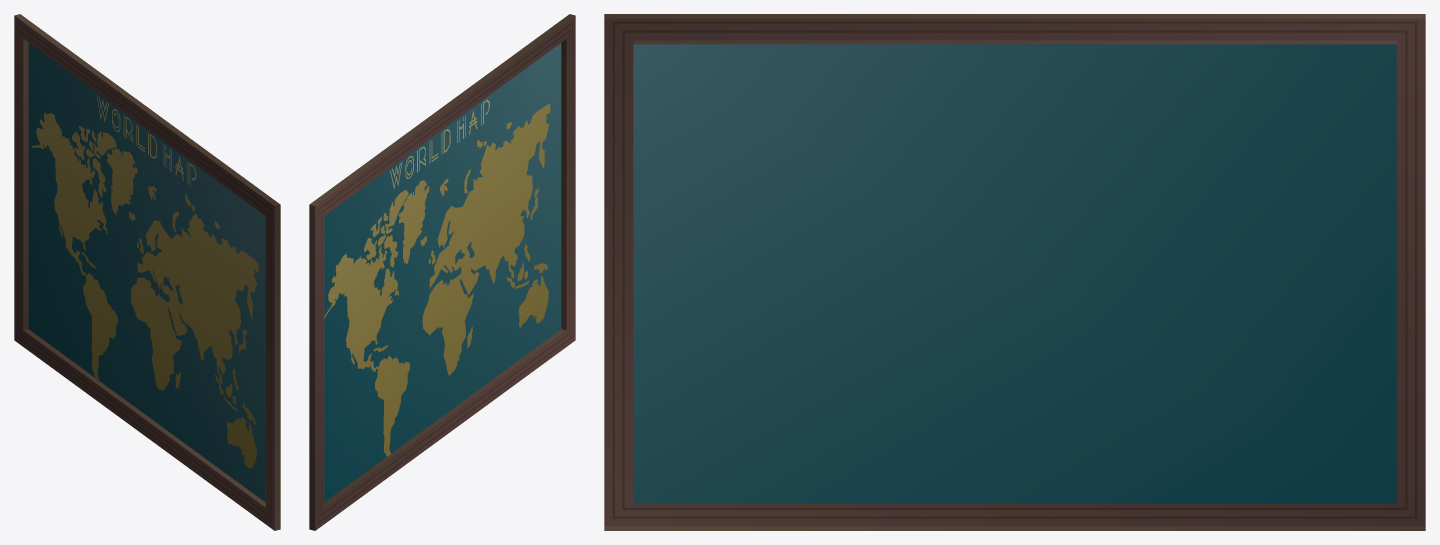
The model's file is CR_WorldMap.FBX.
3 views of the same model, side by side, from view 1: azimuth 30°, elevation 25°; view 2: azimuth 150°, elevation 25°; view 3: azimuth 270°, elevation 25° (orthographic). The views are drawn at different scales.
Visible parts, largest first — view 1: CR_WorldMap; view 2: CR_WorldMap; view 3: CR_WorldMap.
Boxes of the visible parts, x1,y1,x2,y2 form: CR_WorldMap: (14, 14, 280, 530); CR_WorldMap: (309, 14, 575, 530); CR_WorldMap: (604, 14, 1425, 530).
Size of the model in its own units: 2.36 by 122 by 177.
Materials: 1 (1 with a texture image).
